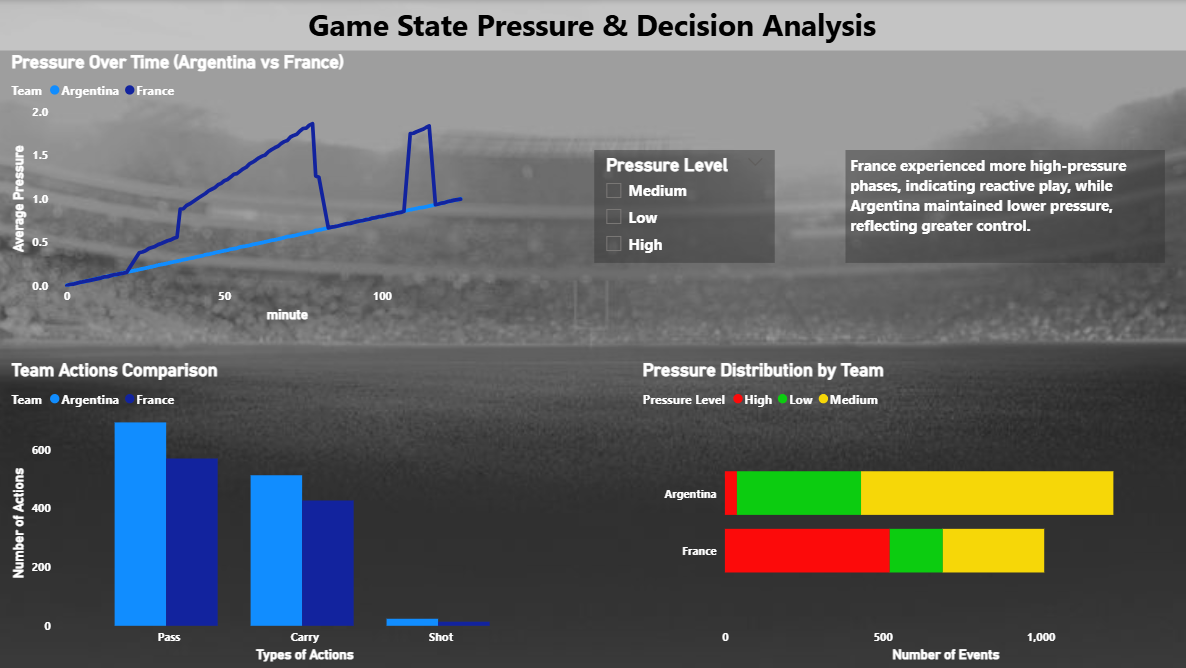

Layout of this report page (visuals, bound fields, positions):
{"tool":"powerbi","page":{"name":"Page 1","canvas":[1280,720],"ordinal":0},"visuals":[{"type":"lineChart","title":"Pressure Over Time (Argentina vs France)","fields":{"Category":["pressure_analysis.minute"],"Series":["pressure_analysis.team"],"Y":["Avg(pressure_analysis.pressure_team)"]},"box":[9.4,55.2,556,296.2],"z":0},{"type":"clusteredColumnChart","title":"Team Actions Comparison","fields":{"Category":["pressure_analysis.type"],"Y":["CountNonNull(pressure_analysis.type)"],"Series":["pressure_analysis.team"]},"box":[9.4,387.7,590,330],"z":1000},{"type":"slicer","fields":{"Values":["pressure_analysis.pressure_level_v1"]},"box":[642,161.4,194.3,121.4],"z":2000},{"type":"barChart","title":"Pressure Distribution by Team","fields":{"Category":["pressure_analysis.team"],"Y":["CountNonNull(pressure_analysis.pressure_level_v1)"],"Series":["pressure_analysis.pressure_level_v1"]},"box":[689.3,387.7,591,330],"z":3000},{"type":"textbox","box":[0,0,1280,54.3],"z":4000},{"type":"textbox","box":[912.9,161.4,344.3,121.4],"z":5000}]}

Visuals, with their boxes in screenshot pixels (x1, y1, x2, y2), scaled from the page's 1280x720 canvas onto the 1186x668 screenshot:
"Pressure Over Time (Argentina vs France)" lineChart: [9, 51, 524, 326]
"Team Actions Comparison" clusteredColumnChart: [9, 360, 555, 666]
slicer - pressure_analysis.pressure_level_v1: [595, 150, 775, 262]
"Pressure Distribution by Team" barChart: [639, 360, 1185, 666]
textbox: [0, 0, 1185, 50]
textbox: [846, 150, 1165, 262]
